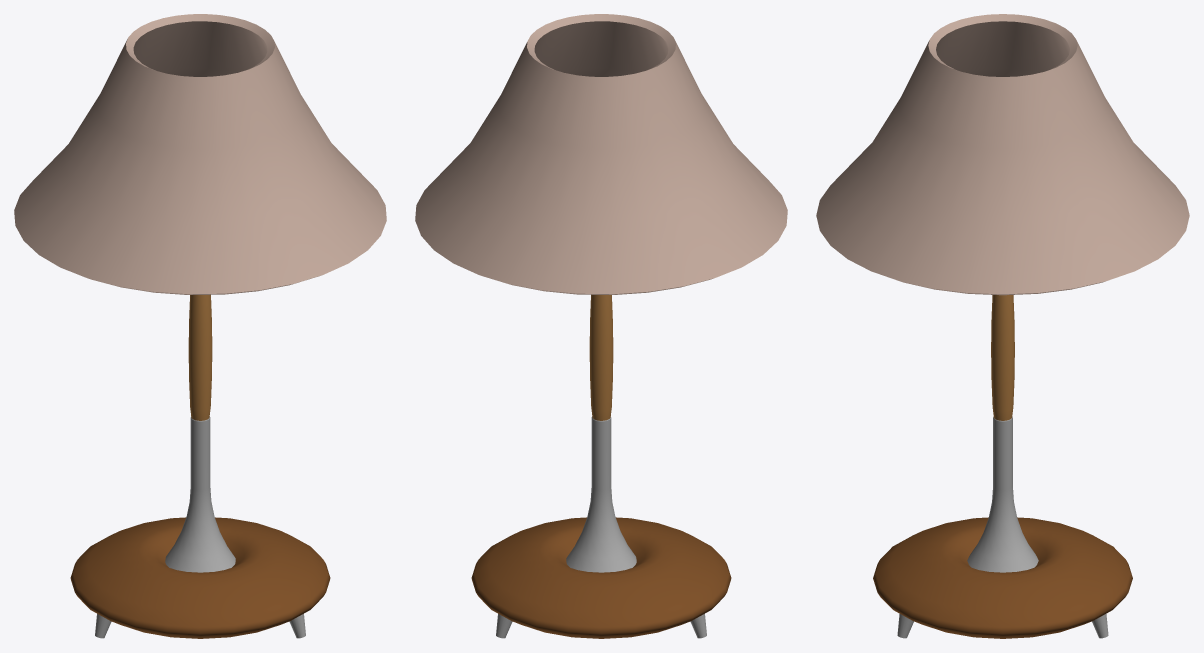
File: lamp.fbx
3 views of the same model, side by side, from view 1: azimuth 30°, elevation 25°; view 2: azimuth 150°, elevation 25°; view 3: azimuth 270°, elevation 25° (orthographic).
Visible parts, largest first — view 1: lamp; view 2: lamp; view 3: lamp.
Part boxes in pixels (x1,y1,x2,y2): lamp: (14,14,386,638); lamp: (415,14,787,638); lamp: (816,14,1189,638).
Bounding box in the file's own units: 27.23 × 27.23 × 45.67.
